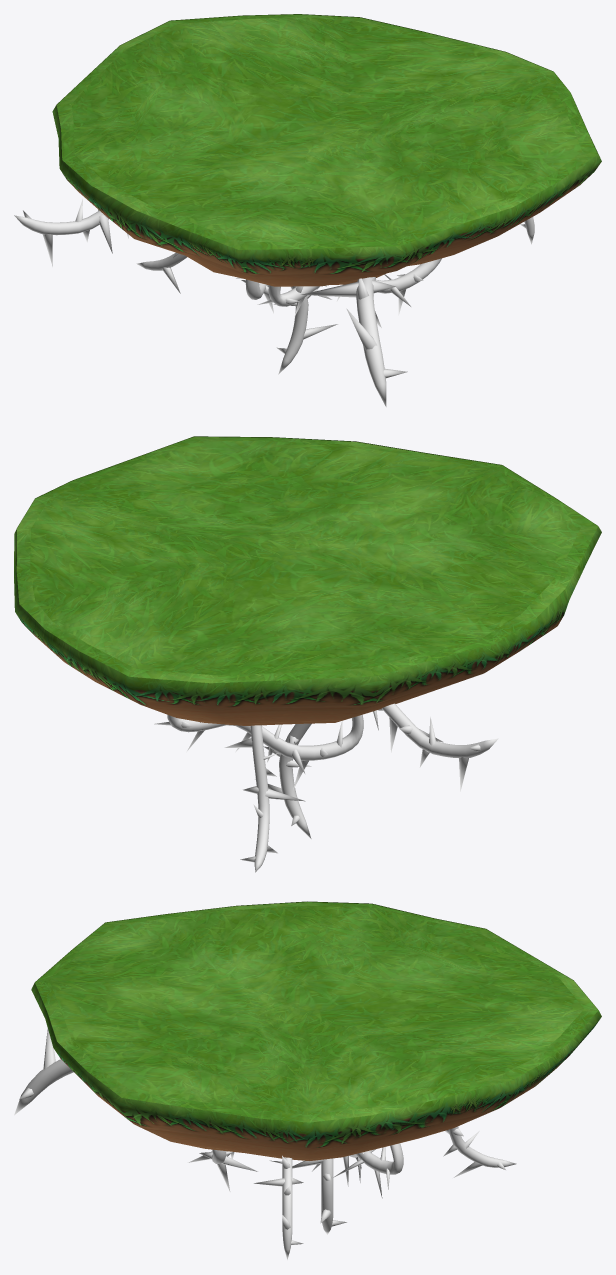
The model's file is floating_platform.FBX.
3 renders of one model, top to bottom at view 1: azimuth 30°, elevation 25°; view 2: azimuth 150°, elevation 25°; view 3: azimuth 270°, elevation 25°, orthographic. The views are drawn at different scales.
Visible parts, largest first — view 1: platform_float_grass, platform_float, Line011, Line008, Line009, Line010; view 2: platform_float_grass, platform_float, Line010, Line008, Line009; view 3: platform_float_grass, platform_float, Line011, Line007, Line009, Line010.
Part boxes in pixels (x1=…): platform_float_grass: x1=56, y1=14, x2=597, y2=249; platform_float: x1=52, y1=14, x2=601, y2=317; Line011: x1=301, y1=277, x2=407, y2=406; Line008: x1=14, y1=199, x2=128, y2=266; Line009: x1=274, y1=286, x2=337, y2=374; Line010: x1=136, y1=252, x2=186, y2=293; platform_float_grass: x1=16, y1=437, x2=597, y2=683; platform_float: x1=14, y1=436, x2=601, y2=789; Line010: x1=224, y1=725, x2=305, y2=872; Line008: x1=382, y1=703, x2=498, y2=791; Line009: x1=255, y1=723, x2=311, y2=838; platform_float_grass: x1=35, y1=902, x2=598, y2=1122; platform_float: x1=31, y1=901, x2=601, y2=1198; Line011: x1=14, y1=1028, x2=73, y2=1115; Line007: x1=254, y1=1155, x2=303, y2=1259; Line009: x1=292, y1=1158, x2=346, y2=1234; Line010: x1=443, y1=1126, x2=516, y2=1177.
Bounding box in the file's own units: 644 × 687 × 311.
